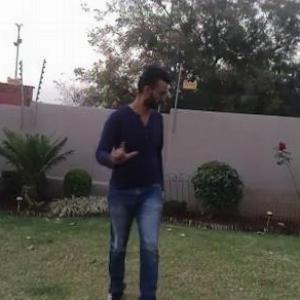land_hand: (108, 134, 142, 167)
